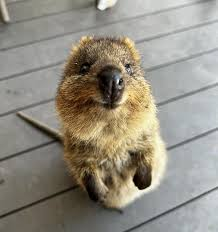quokka: (8, 30, 179, 215)
